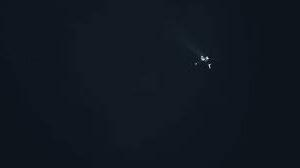Plane: (180, 47, 229, 75)
